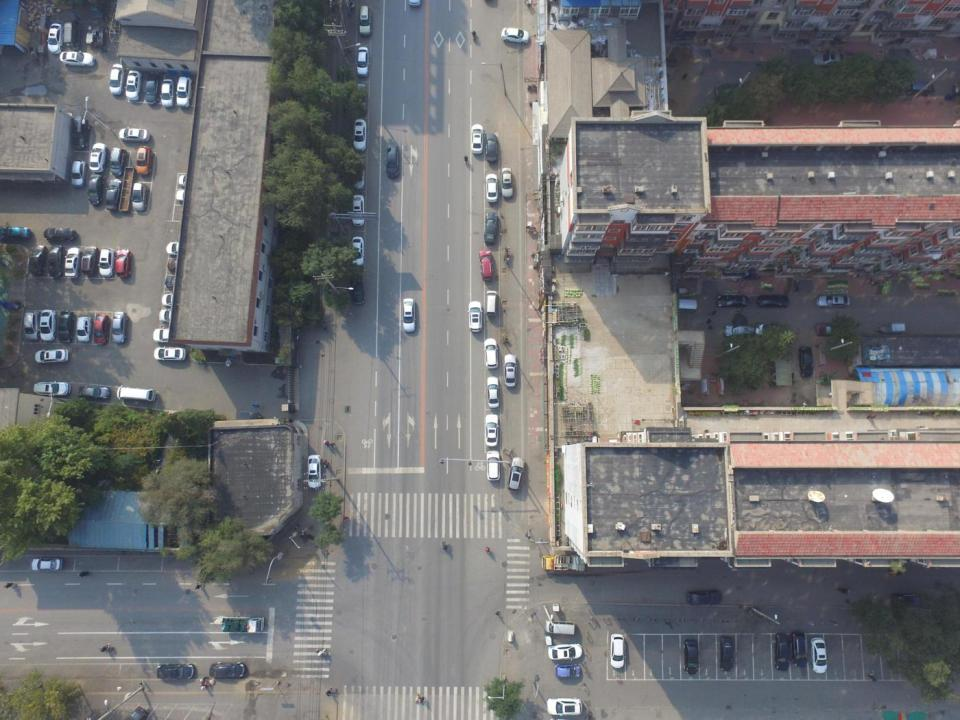car: (68, 115, 90, 149), (810, 637, 829, 674), (547, 696, 582, 716), (774, 634, 792, 672), (507, 456, 526, 492), (209, 662, 246, 680), (156, 663, 195, 680), (104, 178, 124, 211), (790, 631, 808, 667), (59, 50, 95, 68), (88, 142, 108, 174), (548, 642, 583, 660), (47, 244, 65, 279), (683, 638, 700, 675), (38, 309, 57, 342), (107, 64, 127, 95), (86, 174, 105, 206), (124, 70, 143, 102), (28, 244, 47, 276), (33, 380, 71, 396), (686, 589, 721, 606), (609, 633, 626, 668), (176, 75, 194, 108), (719, 636, 735, 672), (110, 312, 128, 344), (92, 314, 110, 346), (34, 348, 70, 364), (143, 74, 161, 106), (22, 310, 40, 342), (46, 22, 64, 54), (135, 146, 154, 176), (80, 246, 99, 276), (69, 158, 88, 188), (384, 145, 401, 178), (153, 327, 186, 344), (97, 248, 117, 276), (715, 83, 752, 98), (130, 182, 149, 211), (890, 592, 924, 608), (467, 300, 483, 334), (306, 454, 322, 488), (352, 118, 368, 152), (118, 127, 150, 144), (797, 346, 814, 378), (502, 354, 518, 387), (350, 194, 366, 227), (478, 249, 494, 282), (58, 310, 74, 343), (0, 226, 33, 242), (349, 274, 366, 305), (401, 298, 416, 333), (114, 249, 132, 278), (811, 53, 848, 67), (154, 346, 186, 362), (484, 413, 499, 447), (351, 83, 368, 113), (76, 385, 110, 400), (159, 79, 176, 109), (65, 248, 82, 278), (109, 147, 126, 177), (483, 338, 499, 369), (44, 227, 77, 242), (815, 322, 848, 337), (350, 236, 366, 266), (351, 159, 366, 191), (31, 557, 63, 572), (502, 27, 530, 44), (716, 294, 750, 308), (486, 450, 501, 481), (486, 375, 500, 408), (484, 211, 498, 244), (724, 324, 756, 338), (757, 295, 789, 309), (555, 662, 581, 679), (816, 294, 850, 307), (470, 123, 484, 154), (356, 46, 370, 77), (358, 6, 372, 36), (501, 167, 514, 198), (76, 317, 92, 342), (485, 173, 498, 203), (486, 133, 499, 163)
truck: (541, 554, 586, 572), (222, 616, 264, 634)
van: (117, 384, 157, 402), (61, 19, 82, 52), (545, 619, 575, 635), (665, 299, 698, 313), (906, 82, 936, 96), (486, 290, 497, 316)
